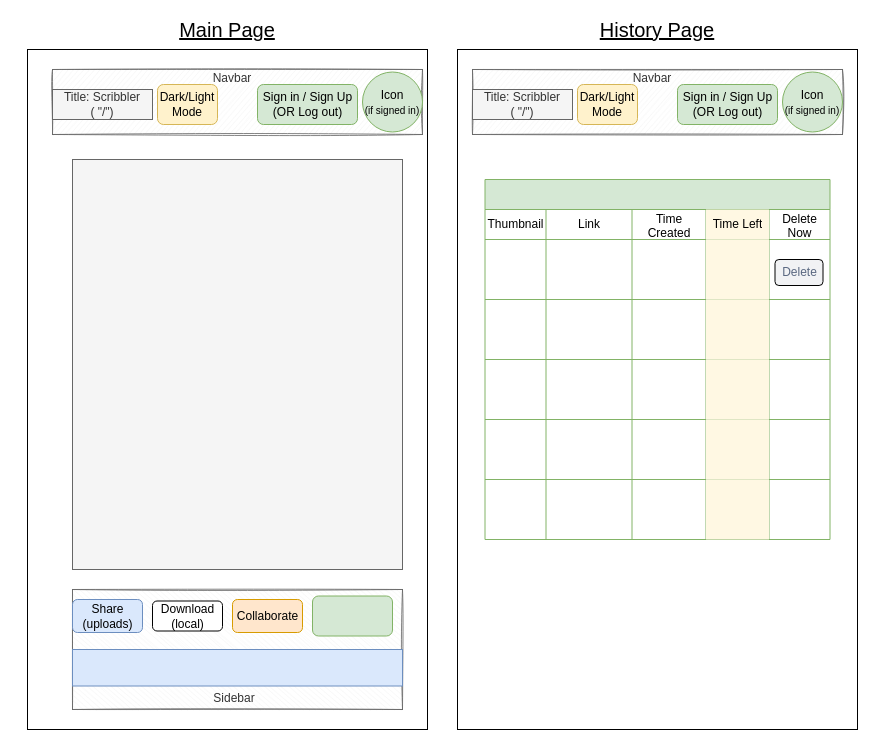
Some shapes in this 884 by 756 pixel diagram are drawn without their labels. Here are the shapes that lost their labels. From the top down, the box of each, then its label:
(72, 158, 402, 570): Excalidraw (React Component)
(484, 178, 830, 540): User's Uploaded Scribbles History
(312, 595, 392, 636): Upload History ("/history")
(72, 648, 402, 686): Daily Color Palette
